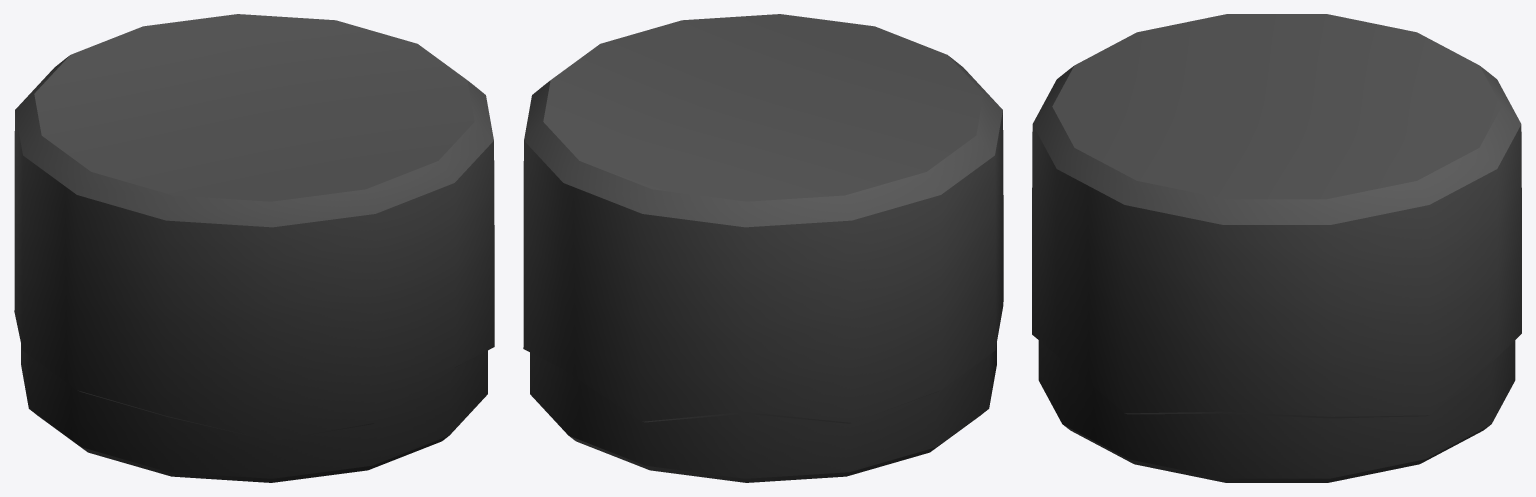
Rendered from Cake Burn_2.fbx.
3 views of the same model, side by side, from view 1: azimuth 30°, elevation 25°; view 2: azimuth 150°, elevation 25°; view 3: azimuth 270°, elevation 25° (orthographic).
Visible parts, largest first — view 1: Cake Burn_2; view 2: Cake Burn_2; view 3: Cake Burn_2.
Part boxes in pixels (x1,y1,x2,y2): Cake Burn_2: [14, 14, 494, 482]; Cake Burn_2: [523, 14, 1003, 482]; Cake Burn_2: [1032, 14, 1521, 482].
Bounding box in the file's own units: 0.2645 × 0.1723 × 0.2713.
